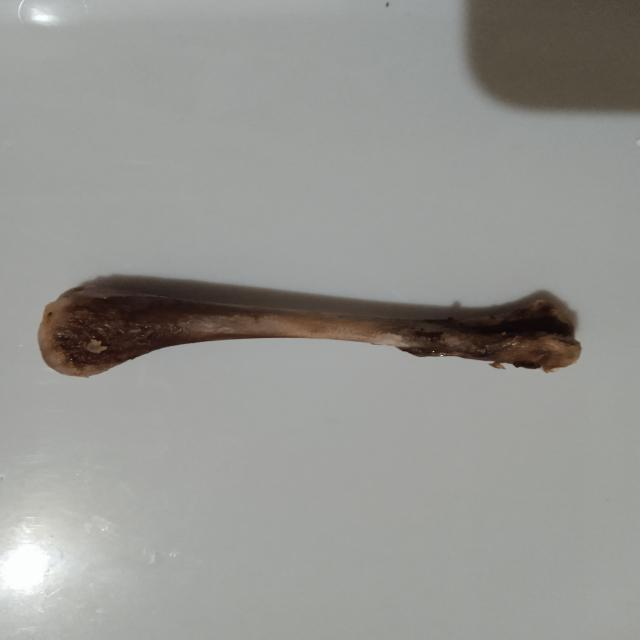bone: (21, 280, 598, 396)
